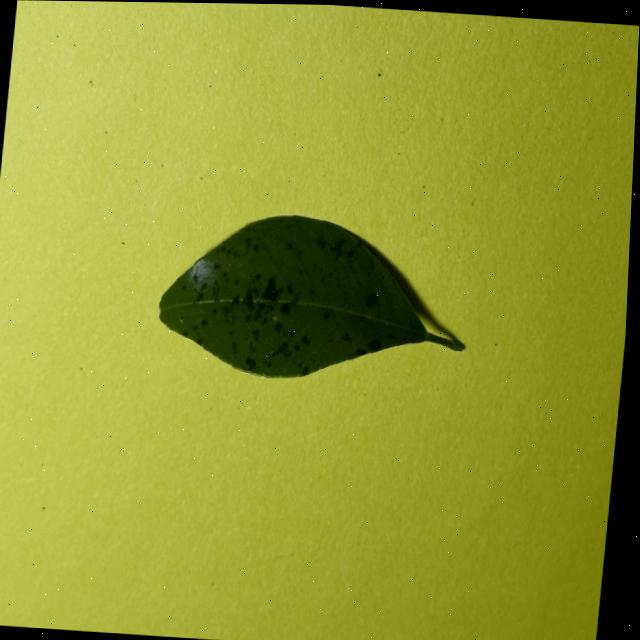sooty_mold: (159, 216, 462, 378)
